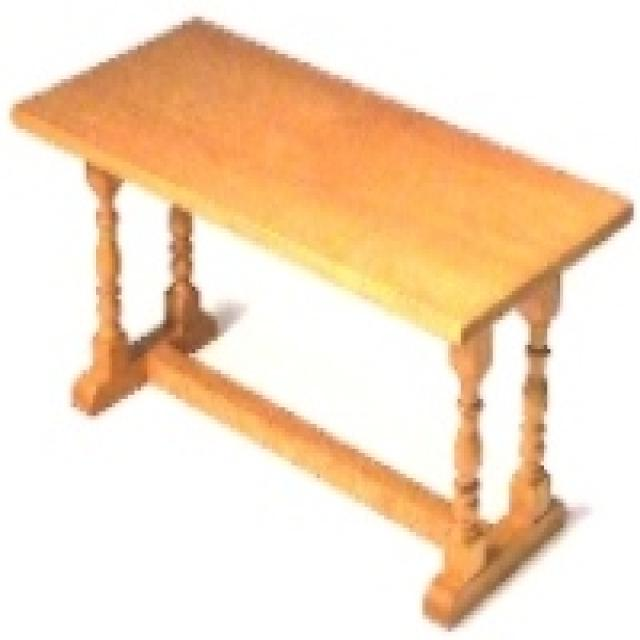table: (12, 15, 633, 629)
